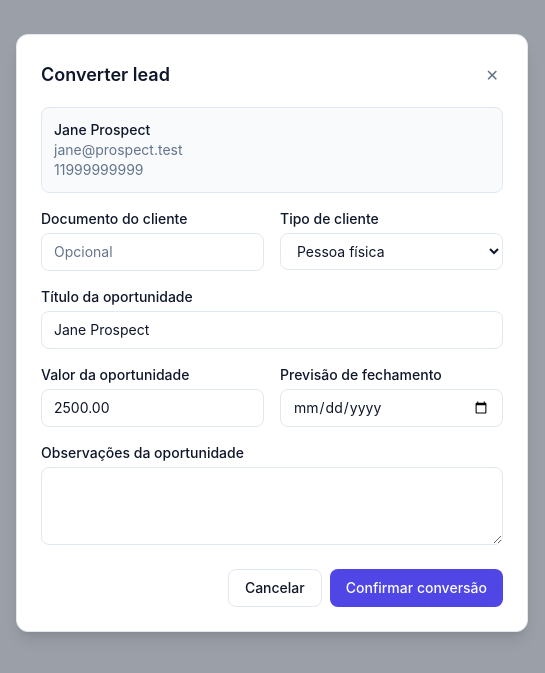
Test: ConvertLeadModal › shows a friendly message on a 409 (already converted)
Click the button "Confirmar conversão": coordinates (416, 588) [330,569,503,607]
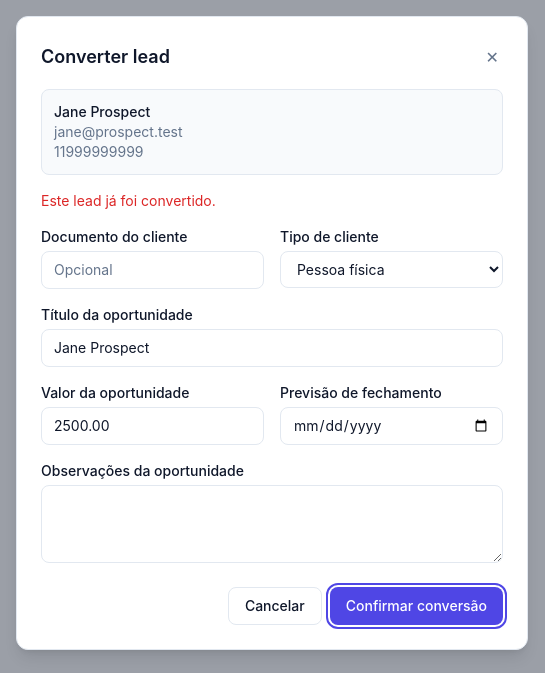
Now the text "Este lead já foi convertido." is shown, box [41,192,216,209]
